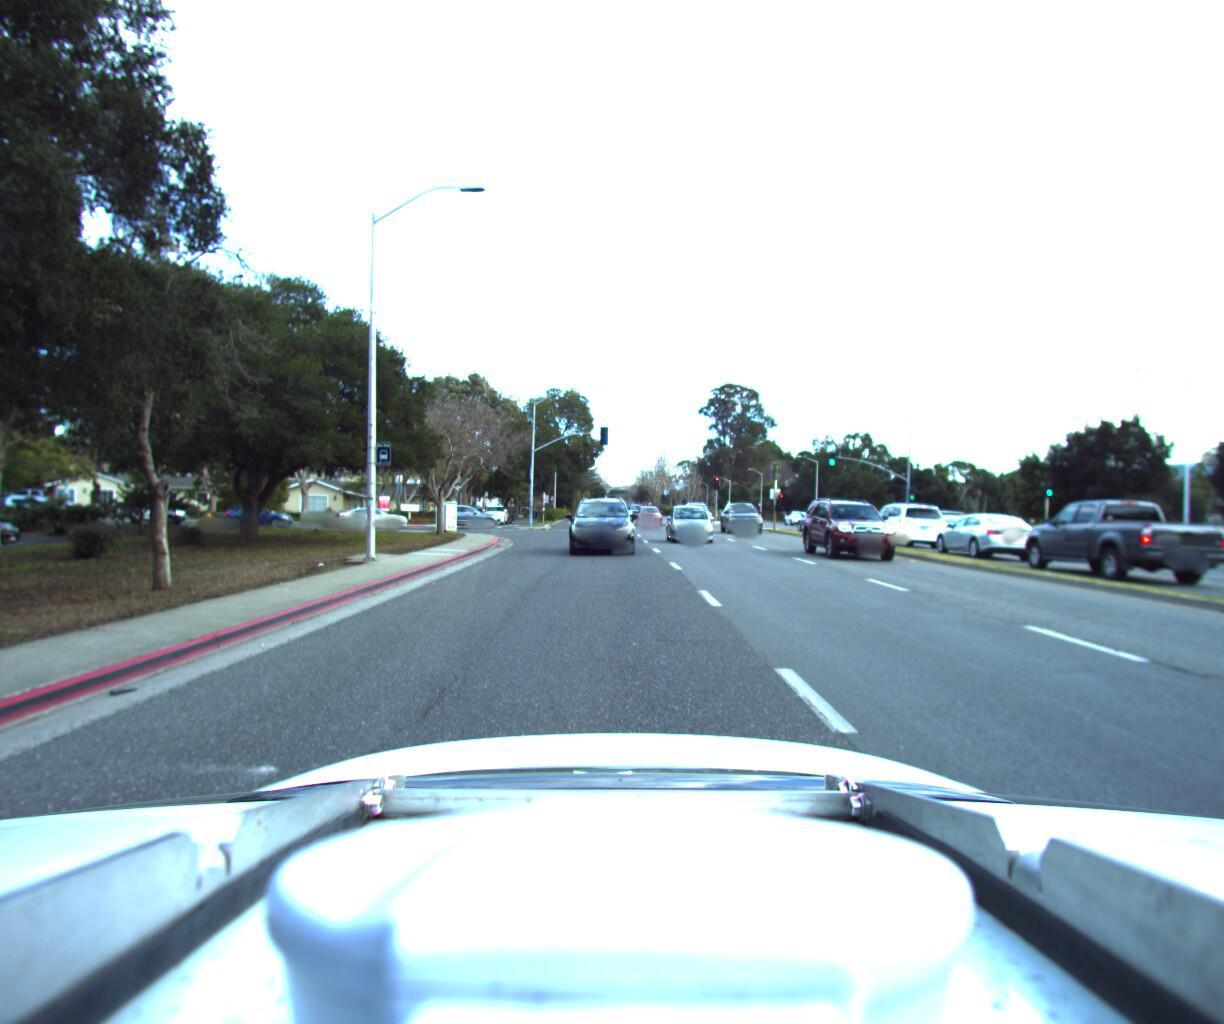car: (1013, 491, 1224, 581), (806, 483, 929, 563), (926, 504, 1050, 555), (568, 488, 637, 553), (859, 494, 953, 542), (659, 496, 720, 540), (109, 494, 193, 520), (218, 499, 297, 523), (335, 500, 411, 524), (435, 498, 503, 524), (721, 499, 771, 534), (634, 494, 663, 520), (481, 497, 508, 519)
